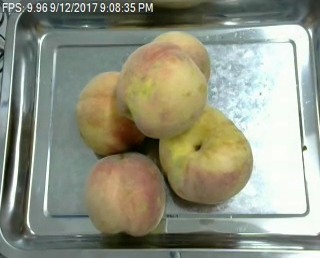Peach: (118, 30, 210, 139), (159, 102, 252, 203), (86, 152, 167, 236), (78, 68, 147, 155)
